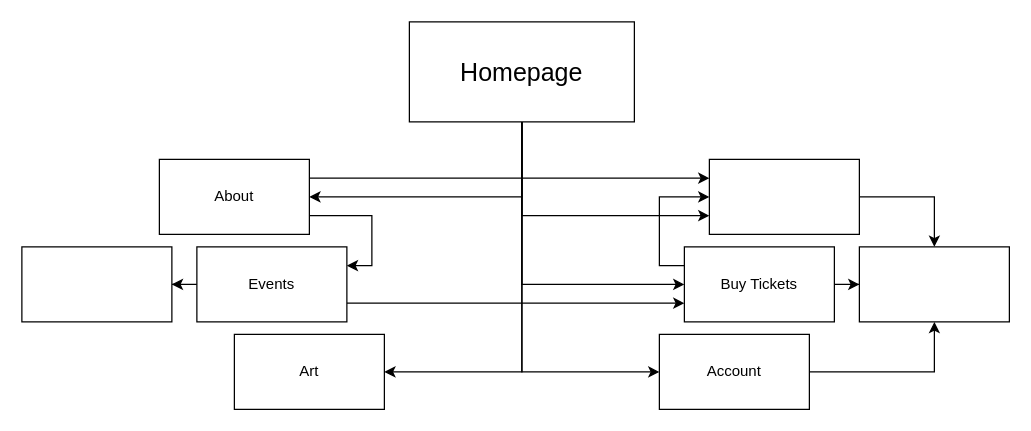
Image size: 1031x431. Some labels were removed from this diagram. The shapes that lost their labels are listed below. From the top down, each one's centre as x and y in pixels, then its label:
At point (783, 196): "Donate".
At point (96, 284): "Locations".
At point (933, 284): "Payment".
